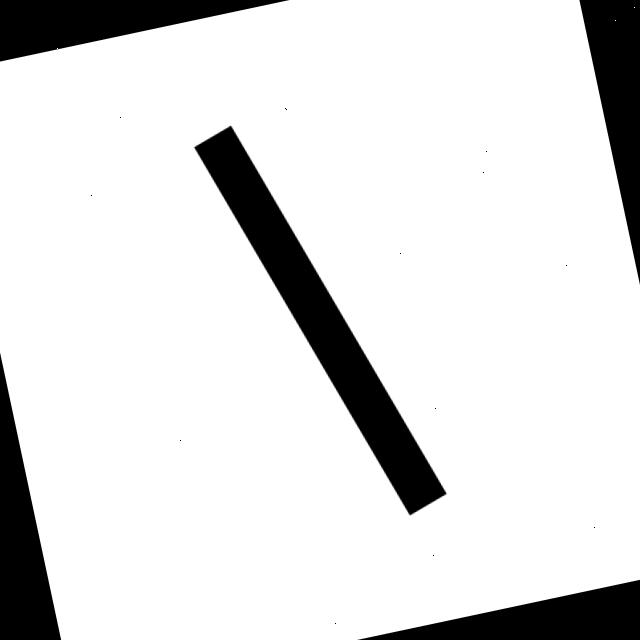line: (193, 125, 446, 515)
